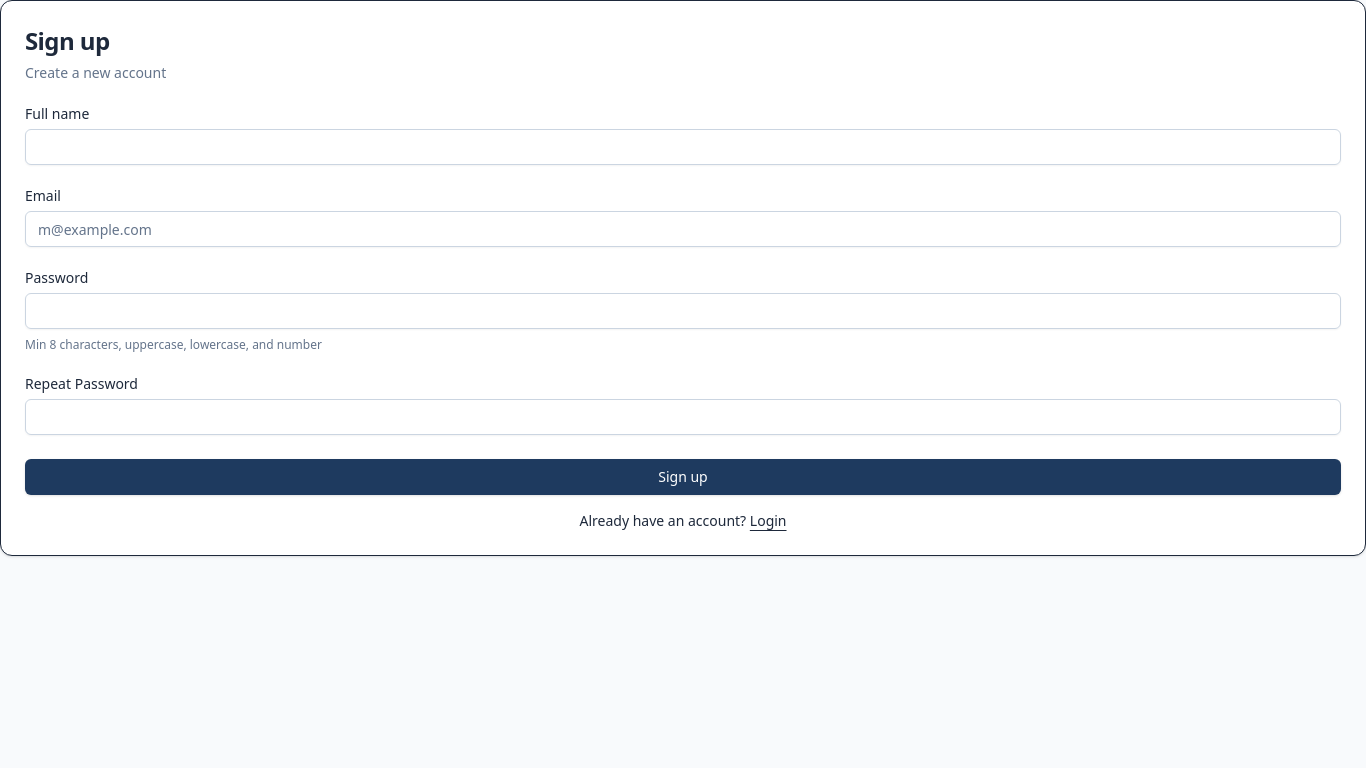
it: SignUpForm component › error handling › should clear error on new submission
This screenshot has width=1366, height=768.
Note: First submission - will fail
Type "John Doe" into the field labelled "Full name" at (683, 147), box 25,129 -> 1341,165
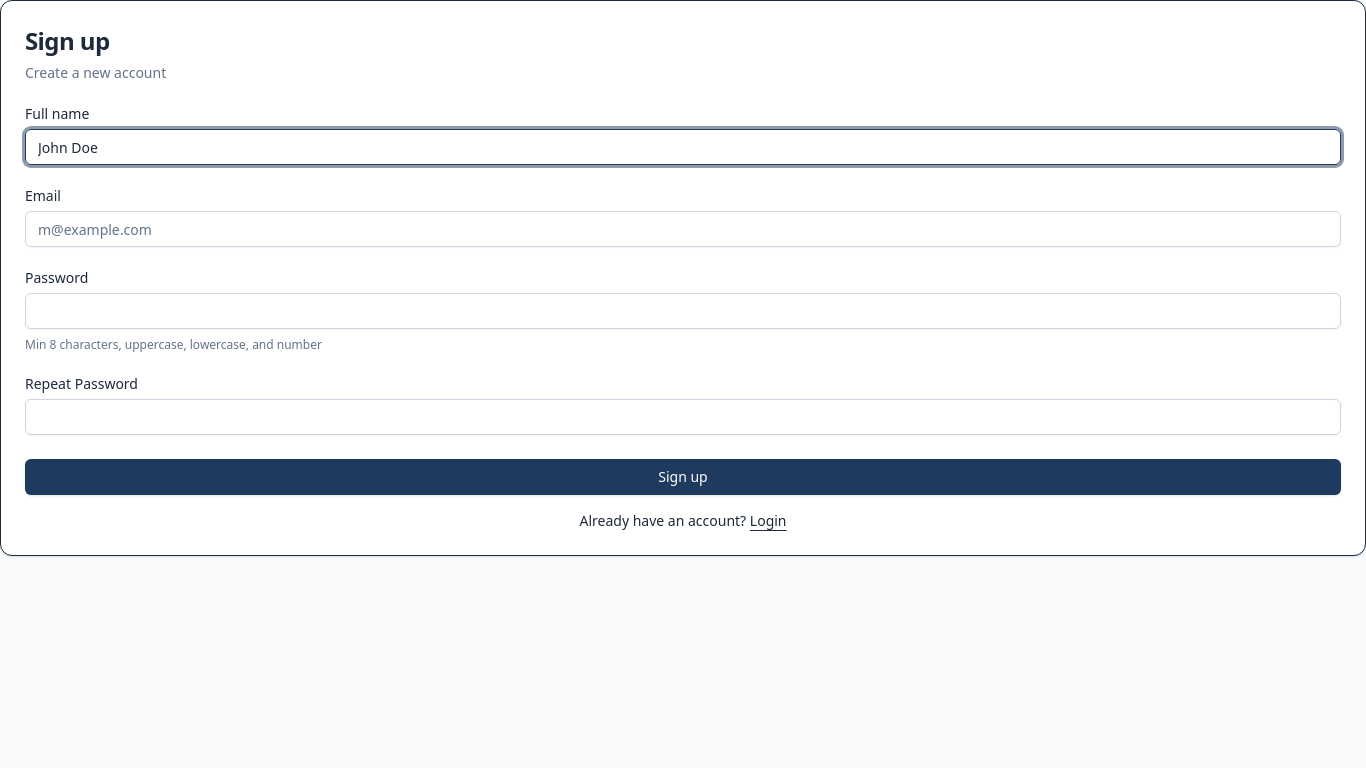
Type "test@example.com" into the field labelled "Email" at (683, 229), box 25,211 -> 1341,247
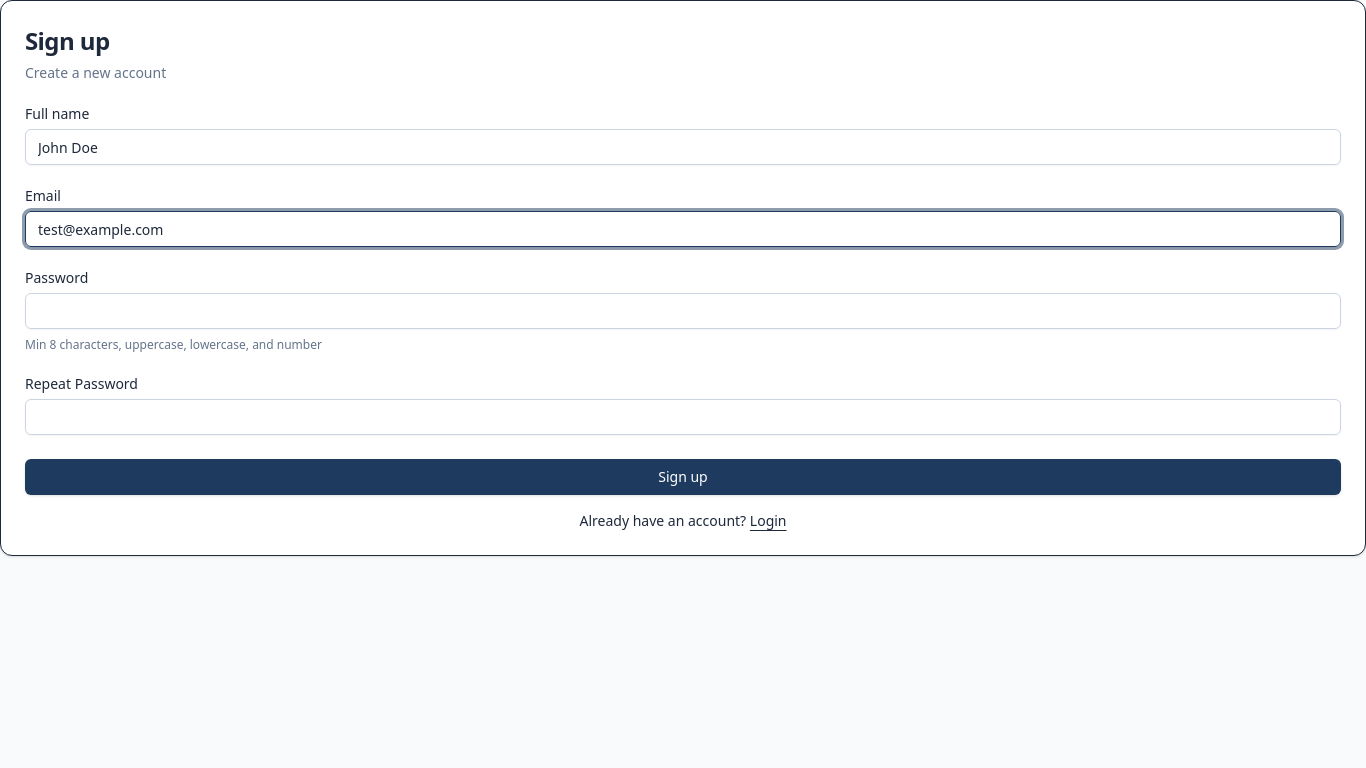
Type "Password123" into the password field labelled "Password" at (683, 311), box 25,293 -> 1341,329
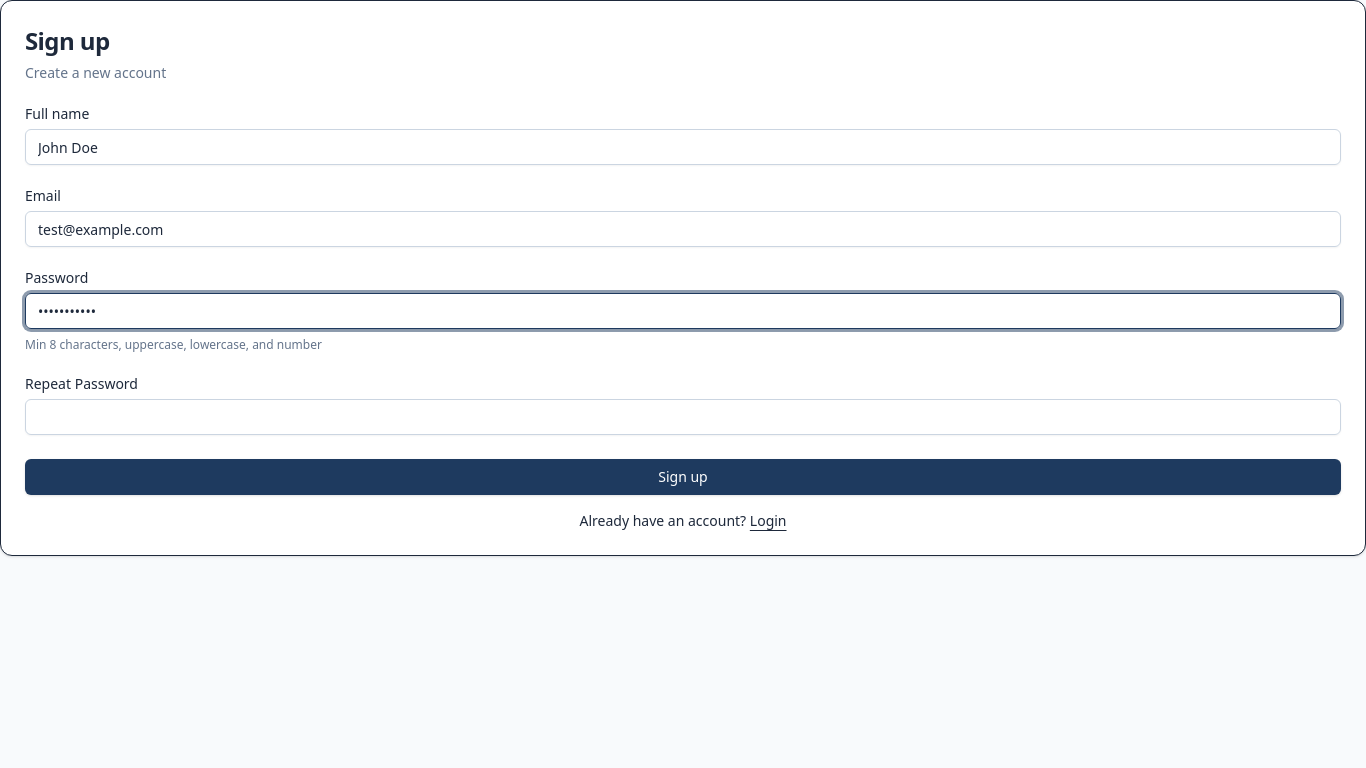
Type "Password123" into the password field labelled "Repeat Password" at (683, 417), box 25,399 -> 1341,435
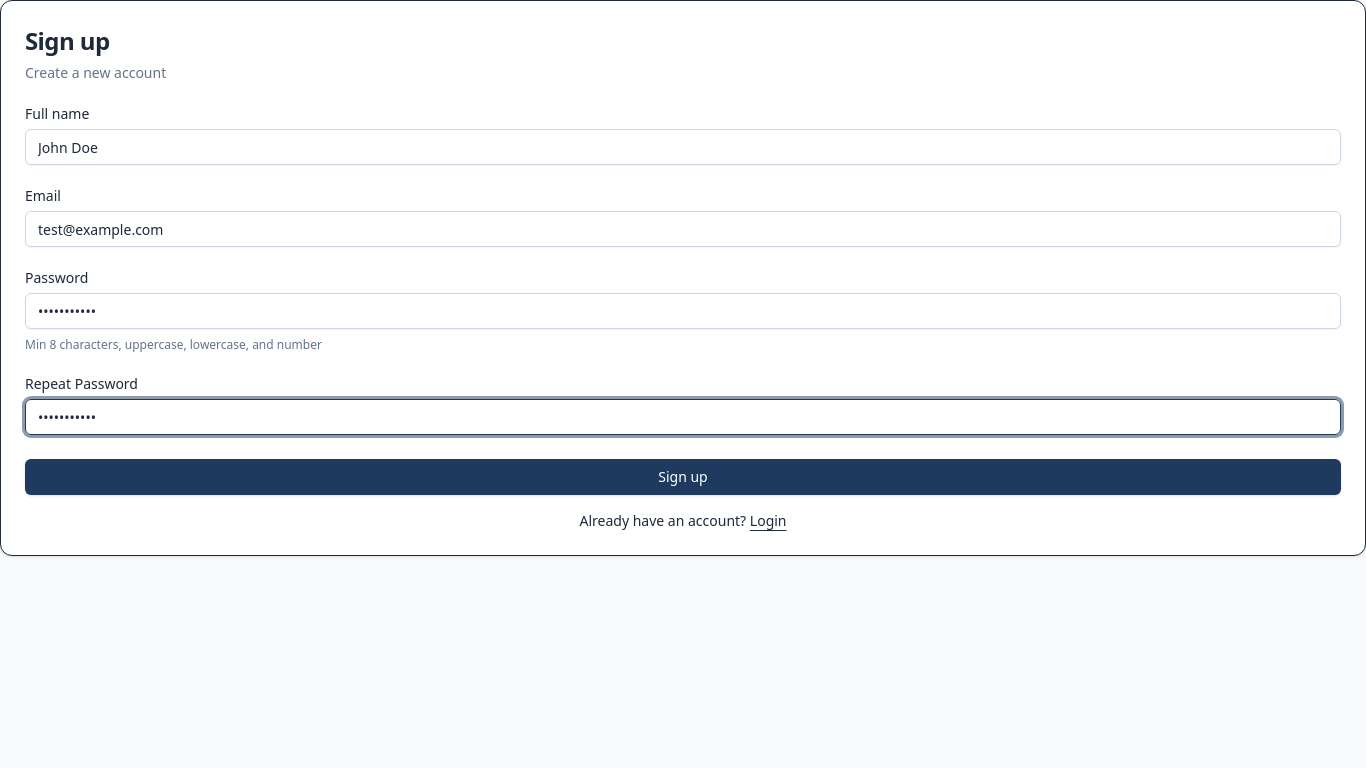
Click the button "Sign up" at (683, 477), box 25,459 -> 1341,495
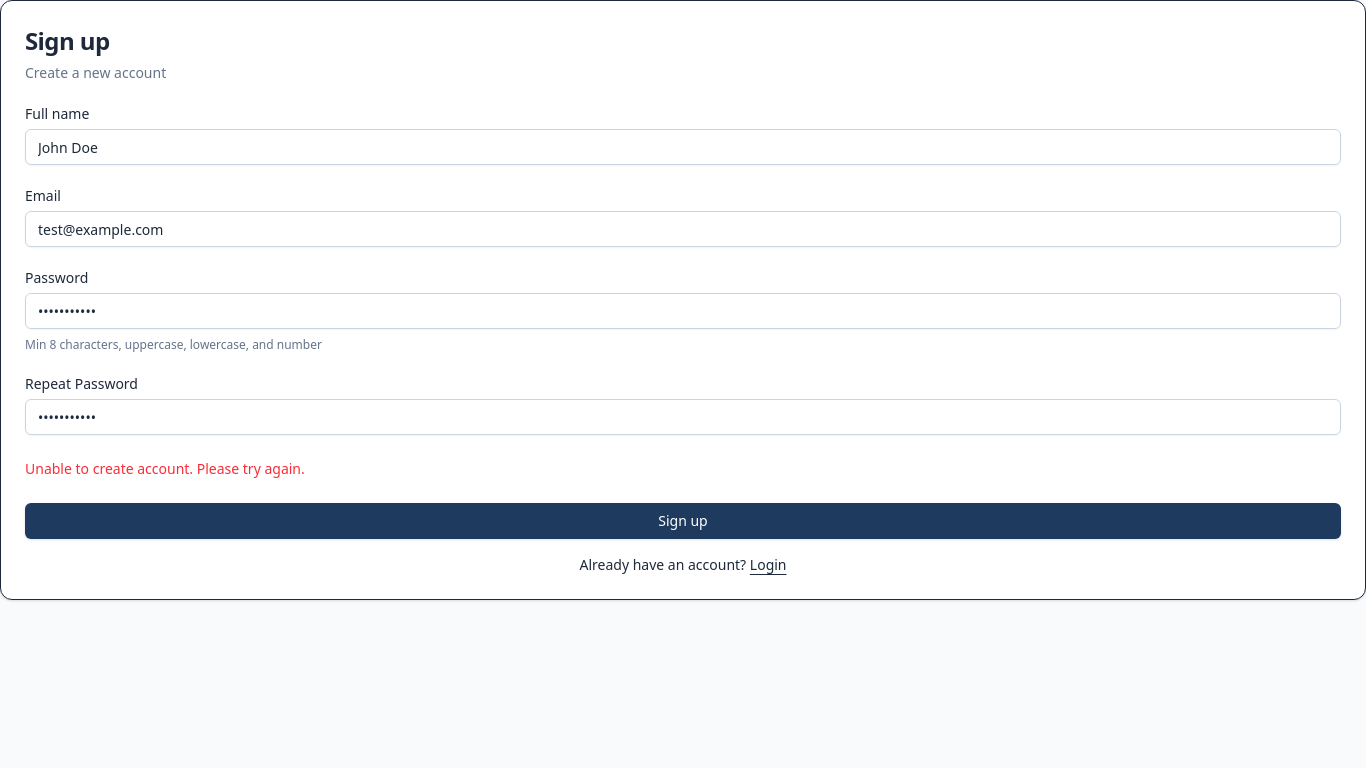
Check: the text "Unable to create account. Please try again." is shown, box 25,459 -> 305,478
Note: Second submission - will succeed
Click the button "Sign up" at (683, 521), box 25,503 -> 1341,539
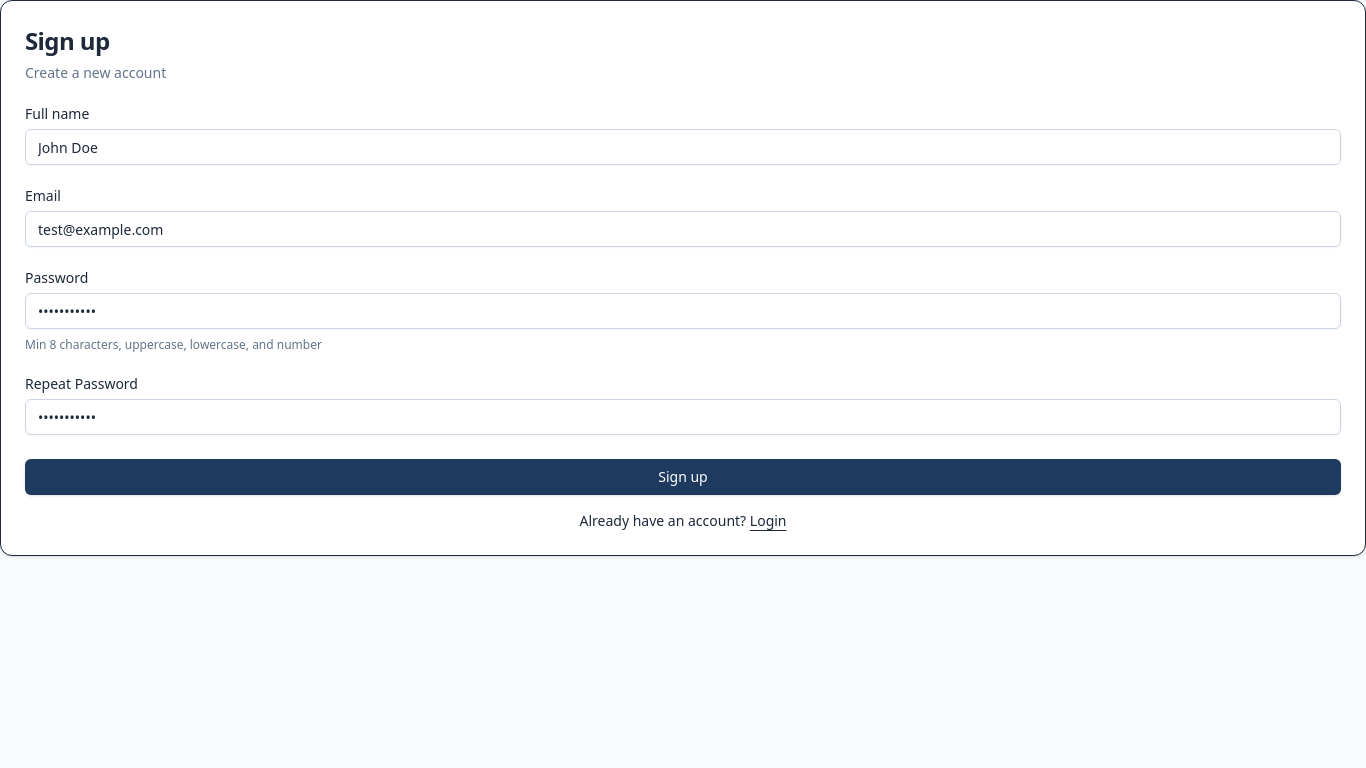
Check: the text "Unable to create account. Please try again." is gone
